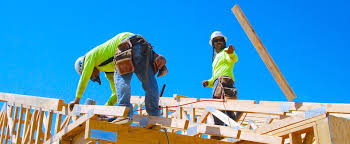hard hat: (209, 31, 227, 46), (74, 56, 86, 74)
